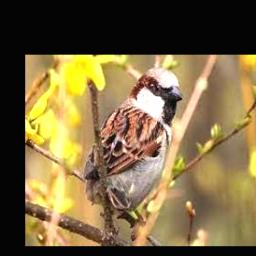Sparrow: (84, 67, 184, 225)
